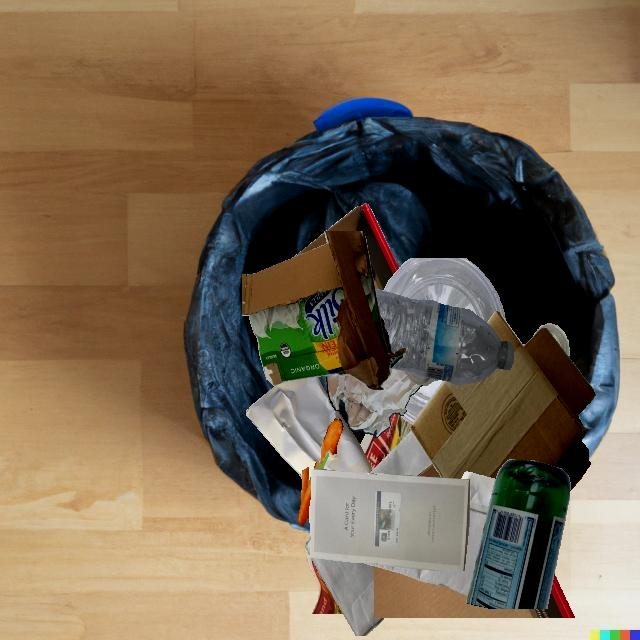biowaste: (314, 418, 343, 469), (298, 467, 311, 526)
cardboard: (410, 310, 595, 491), (242, 231, 406, 391), (374, 566, 574, 618), (326, 203, 399, 291)
glass: (466, 460, 570, 609), (533, 323, 570, 357), (405, 371, 440, 385)
paper: (363, 471, 495, 596), (309, 468, 469, 571), (246, 377, 372, 482), (310, 473, 400, 566), (326, 369, 422, 437), (307, 458, 369, 555), (311, 557, 384, 636), (369, 414, 412, 473), (306, 555, 343, 614), (370, 431, 413, 473), (400, 434, 432, 476), (370, 473, 392, 475)
plastic: (375, 289, 514, 385), (383, 258, 504, 323)
